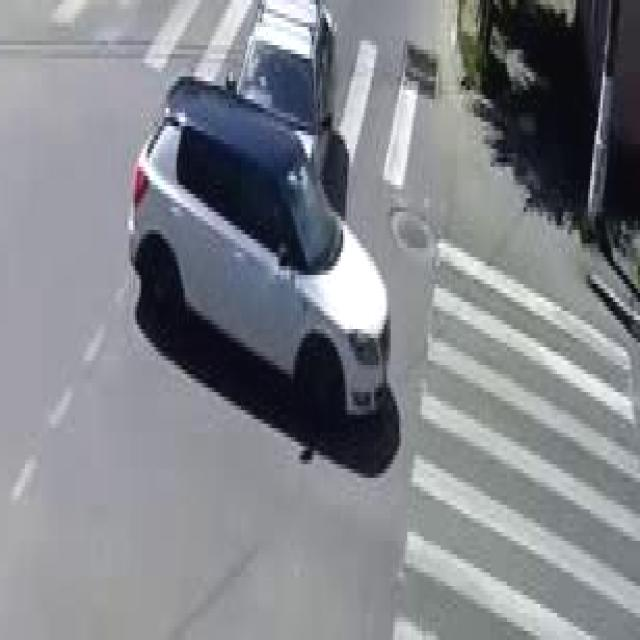accident: (125, 0, 395, 432)
